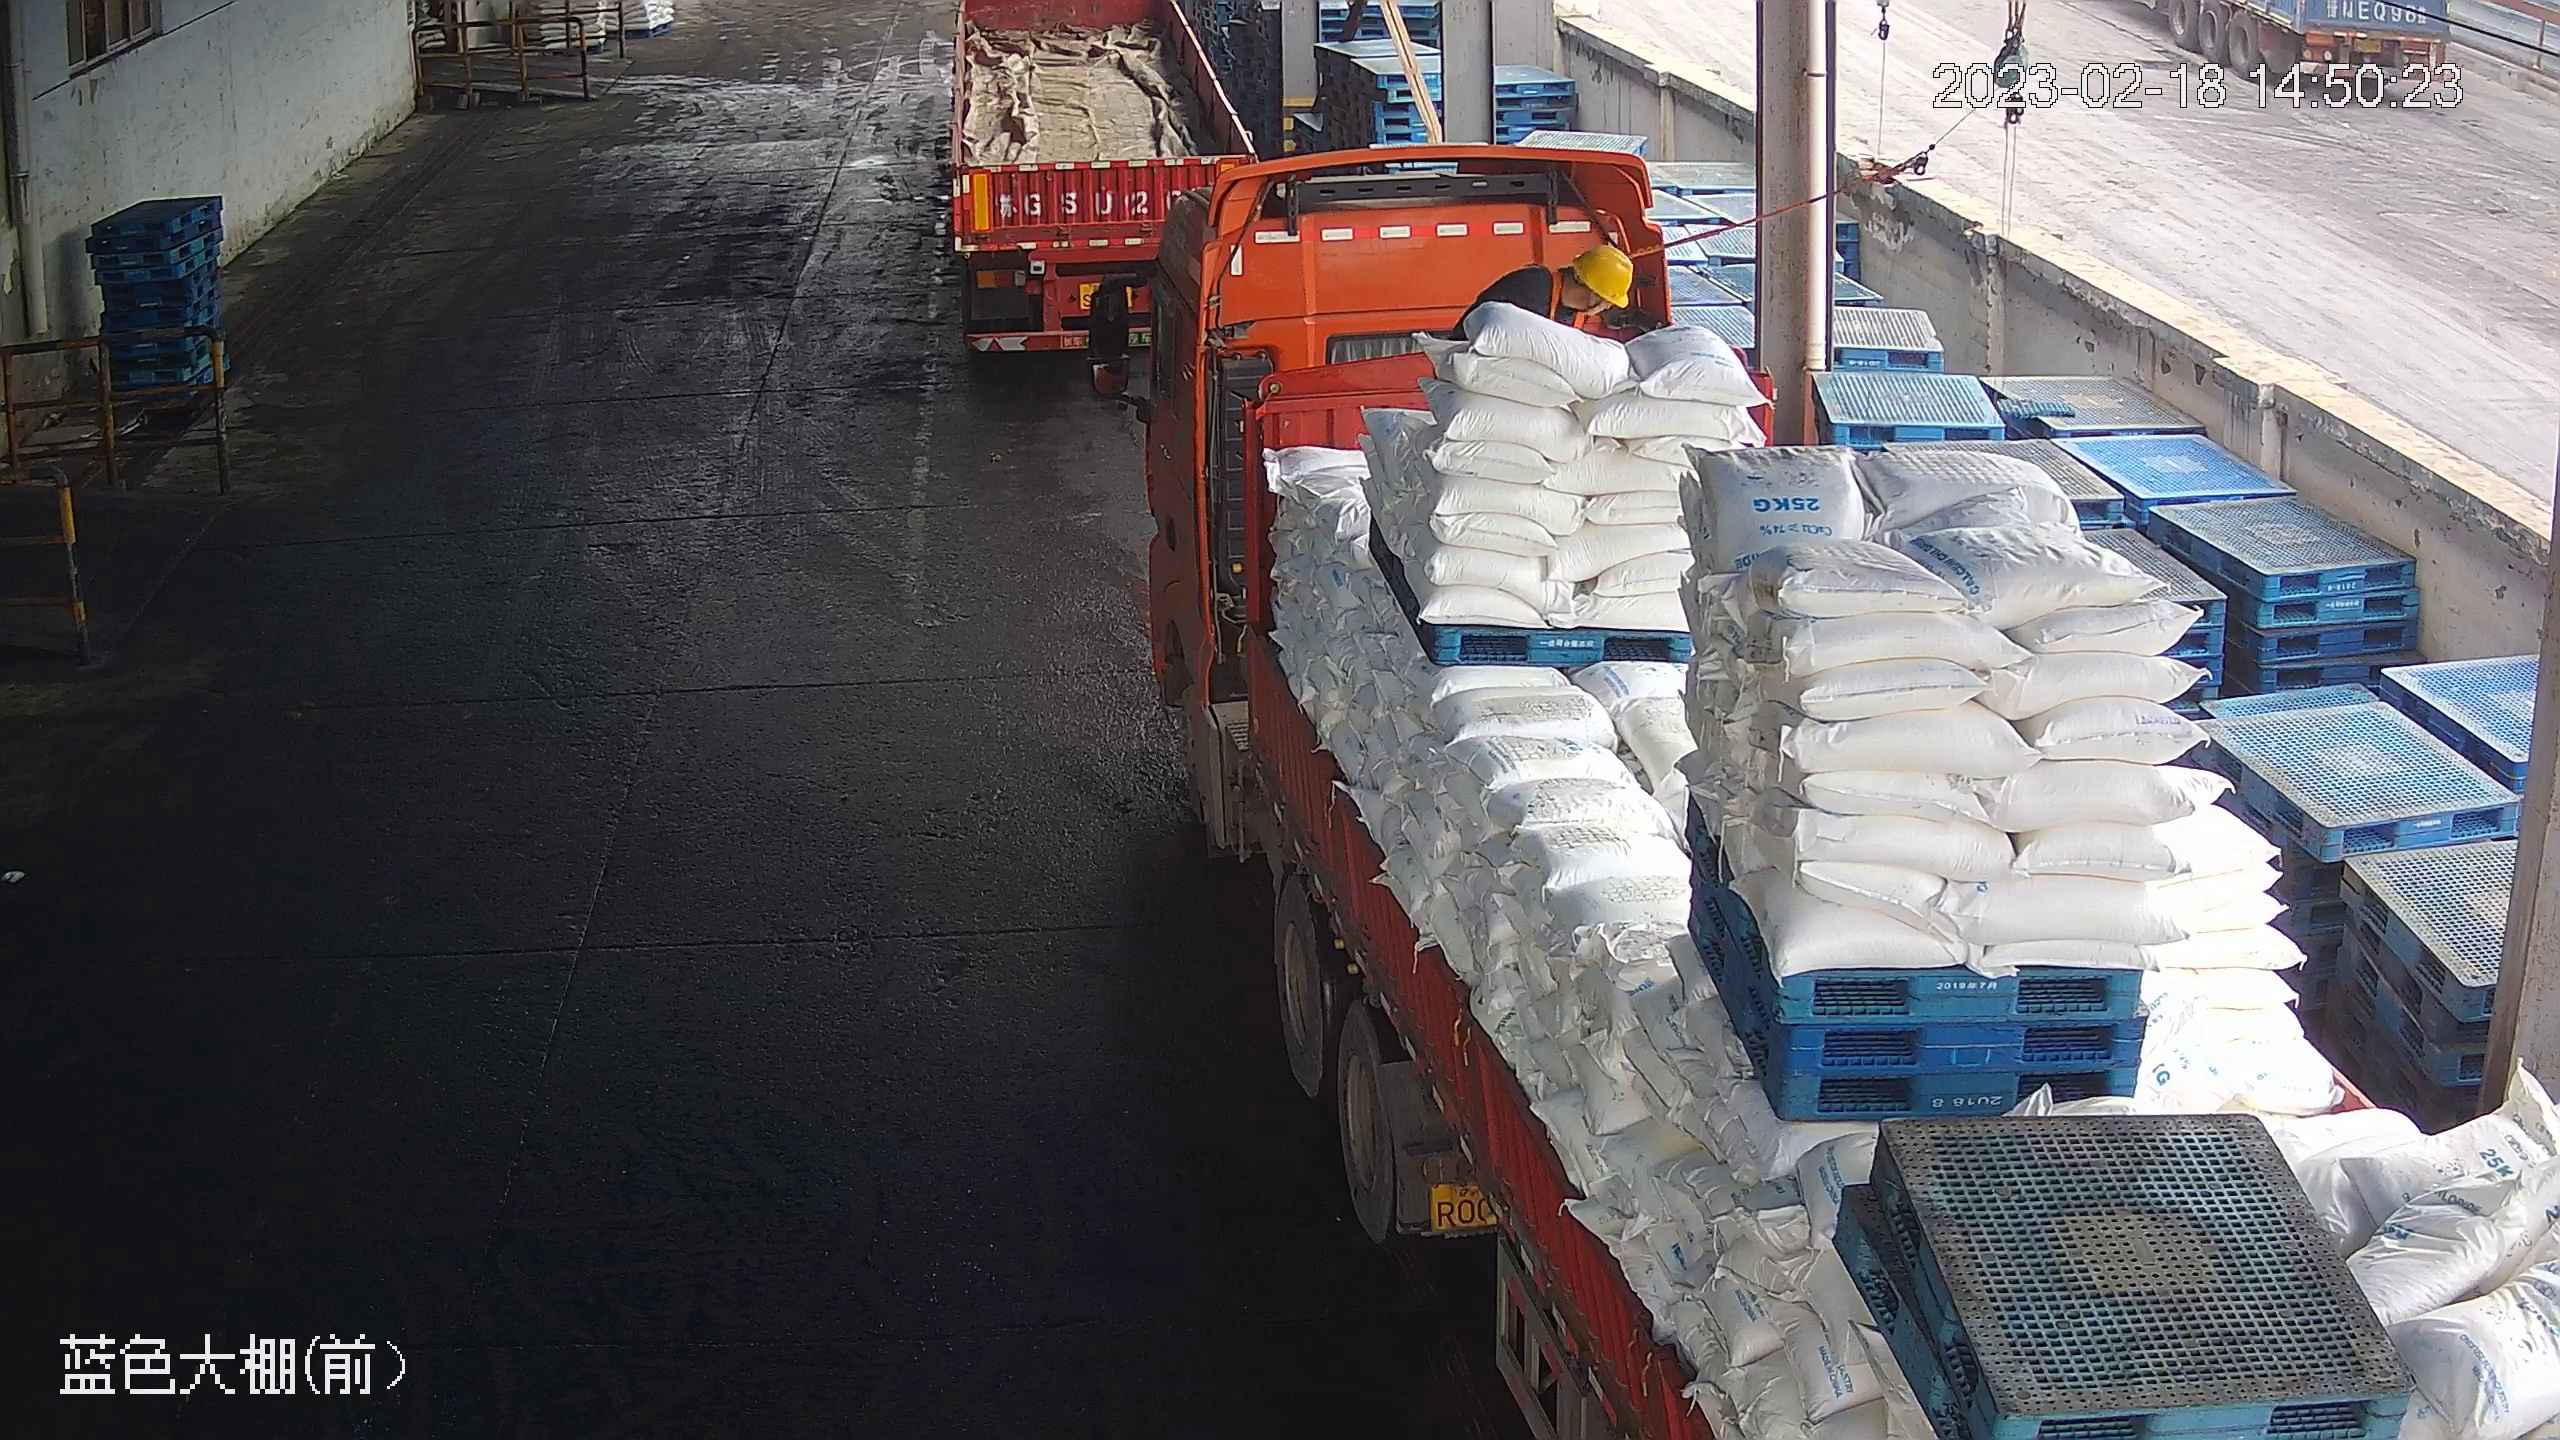belt: (1544, 266, 1602, 335)
head: (1494, 240, 1634, 323)
helmet: (1575, 240, 1637, 310)
truck: (1044, 157, 2555, 1440), (923, 3, 1275, 391)
